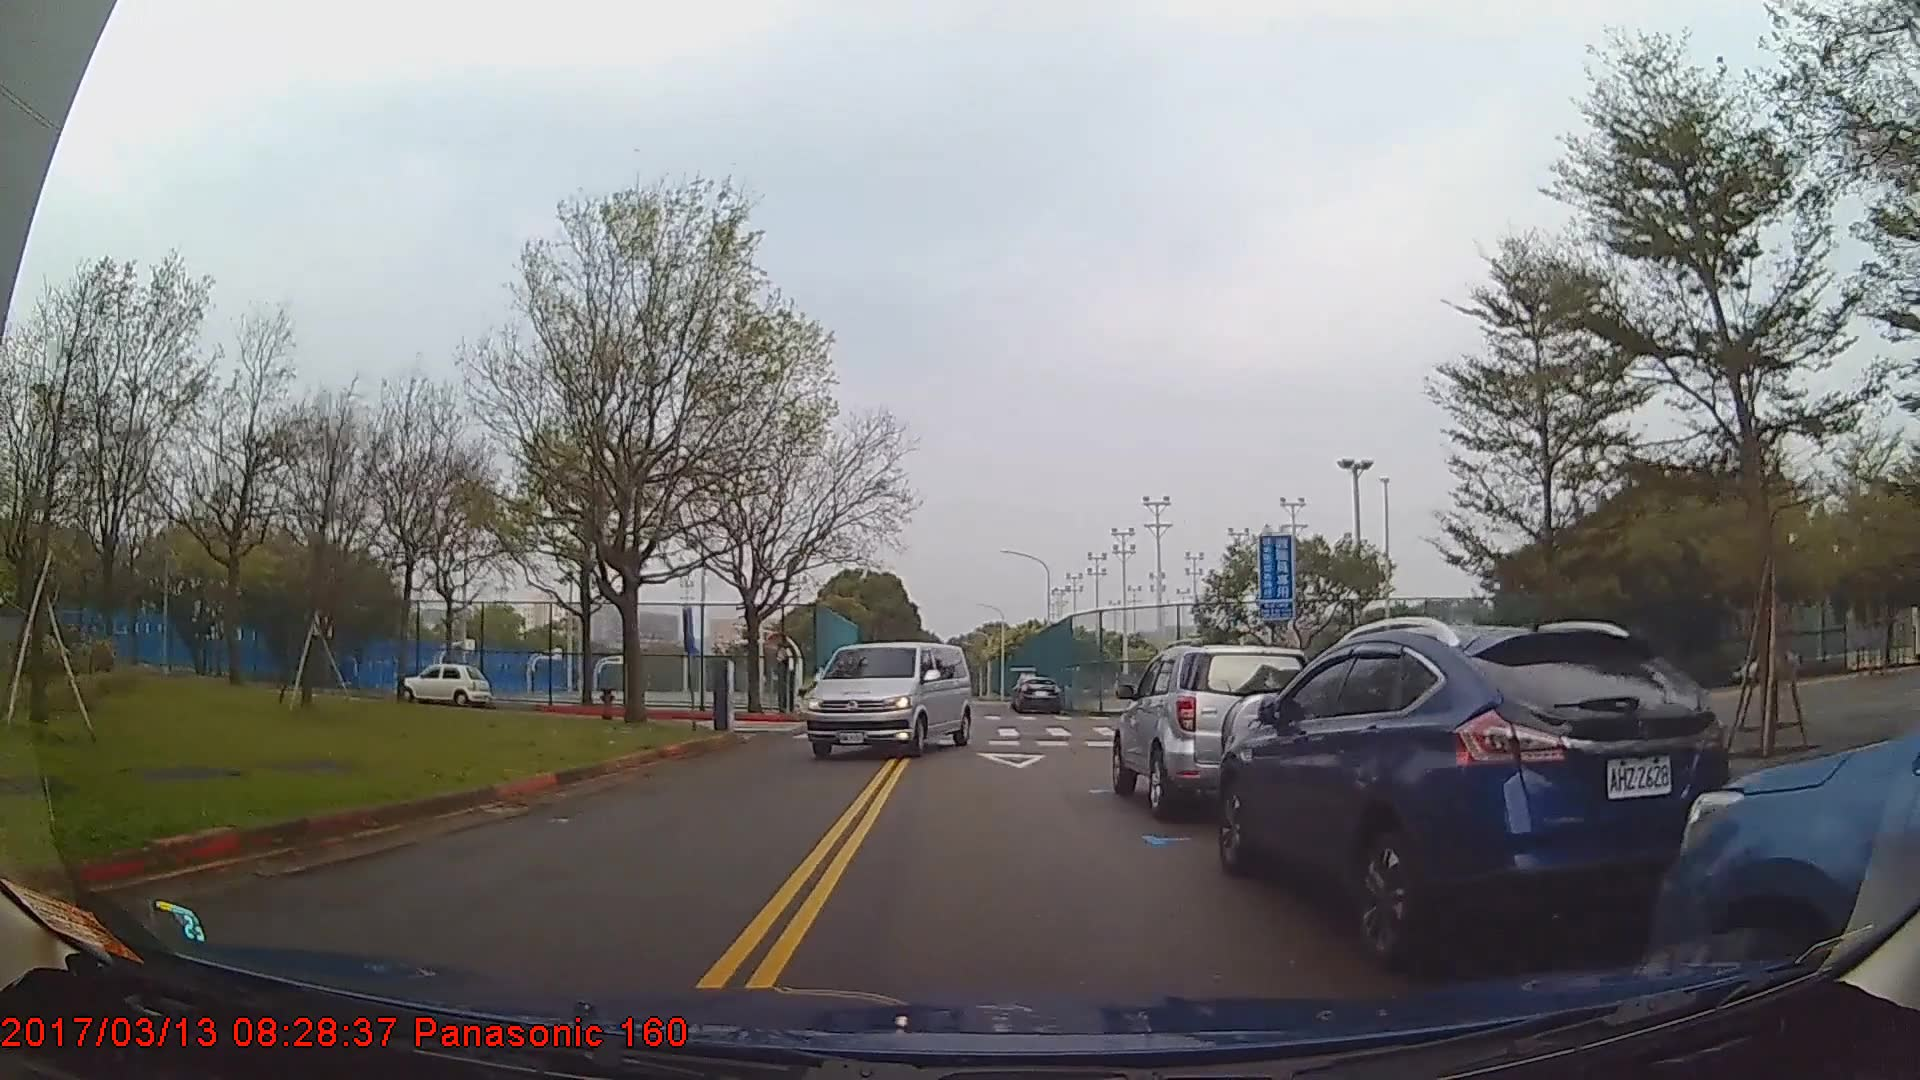vehicle: (1215, 620, 1733, 963), (1110, 644, 1319, 814), (804, 642, 971, 756), (398, 661, 491, 705), (1015, 674, 1062, 715)
